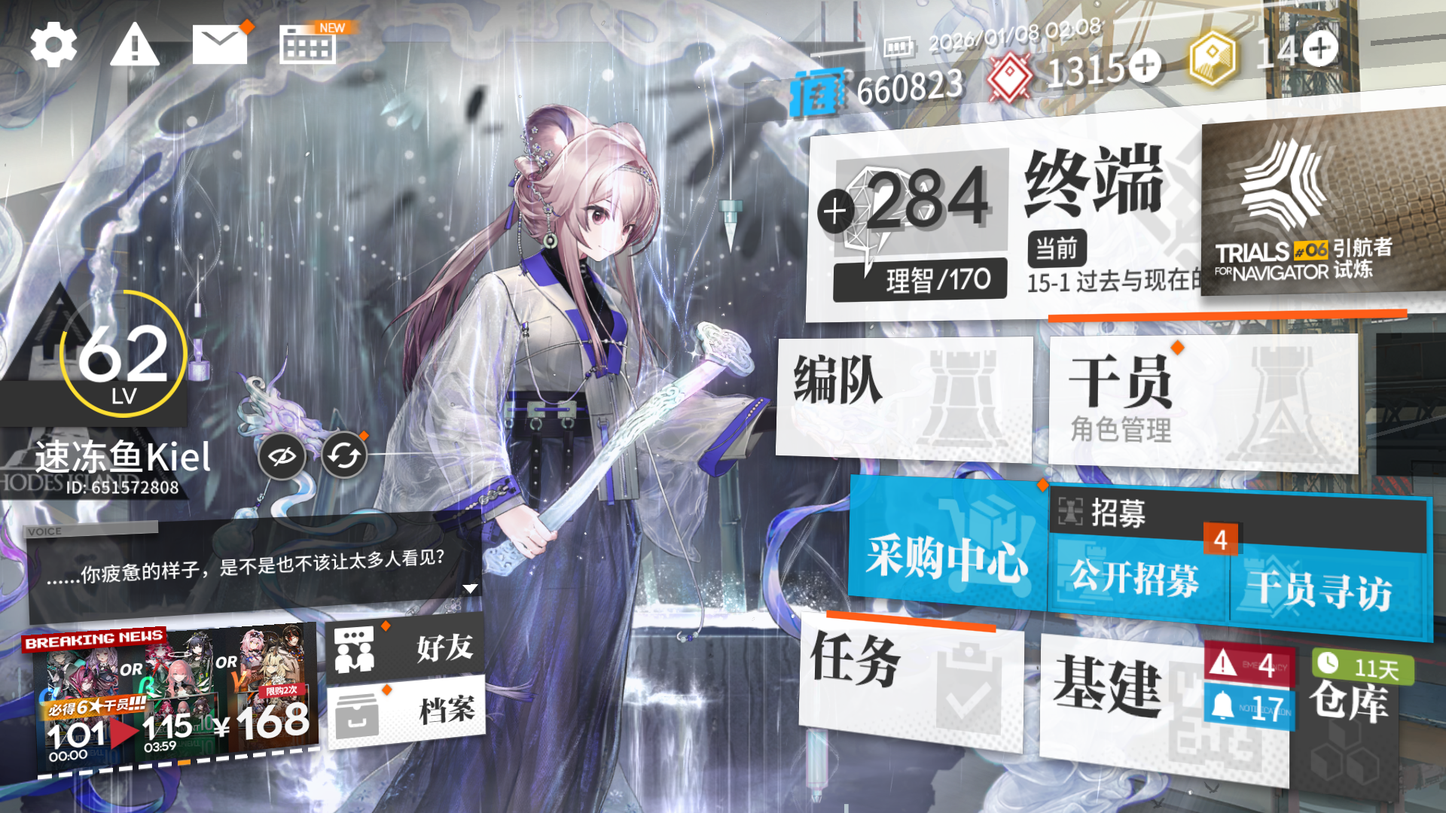home_button: (1014, 120, 1175, 238)
infrastructure_button: (1041, 630, 1255, 769)
